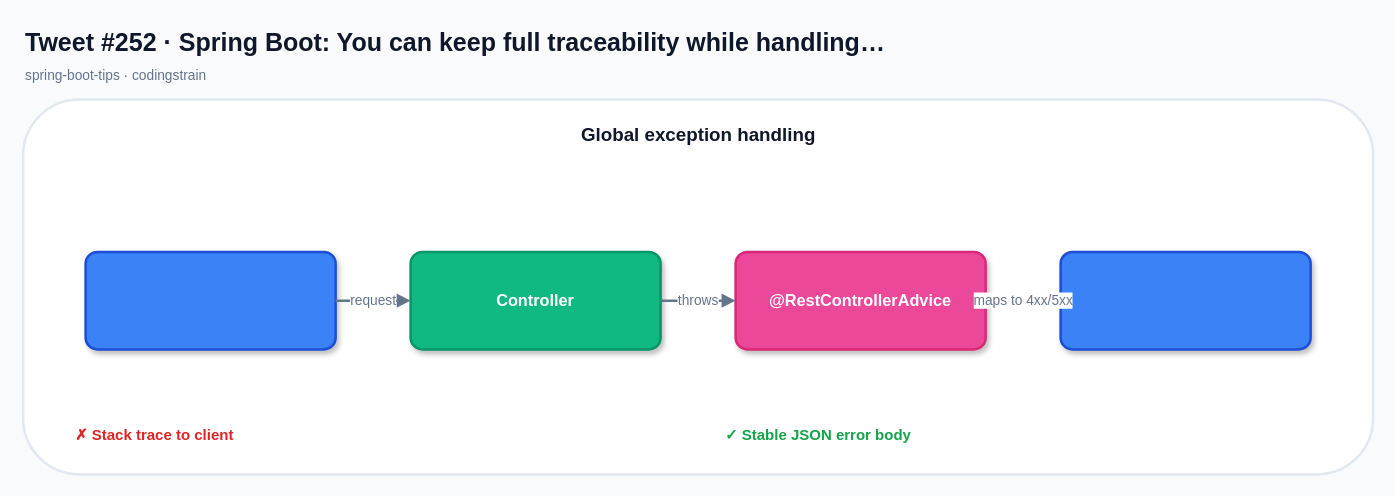
The diagram is 1395 pixels wide and 496 high, and some of its shapes have lost their labels. Each missing label, with the centre of its shape:
"ErrorResponse JSON" belongs at [1186,302].
"HTTP Client" belongs at [211,302].
